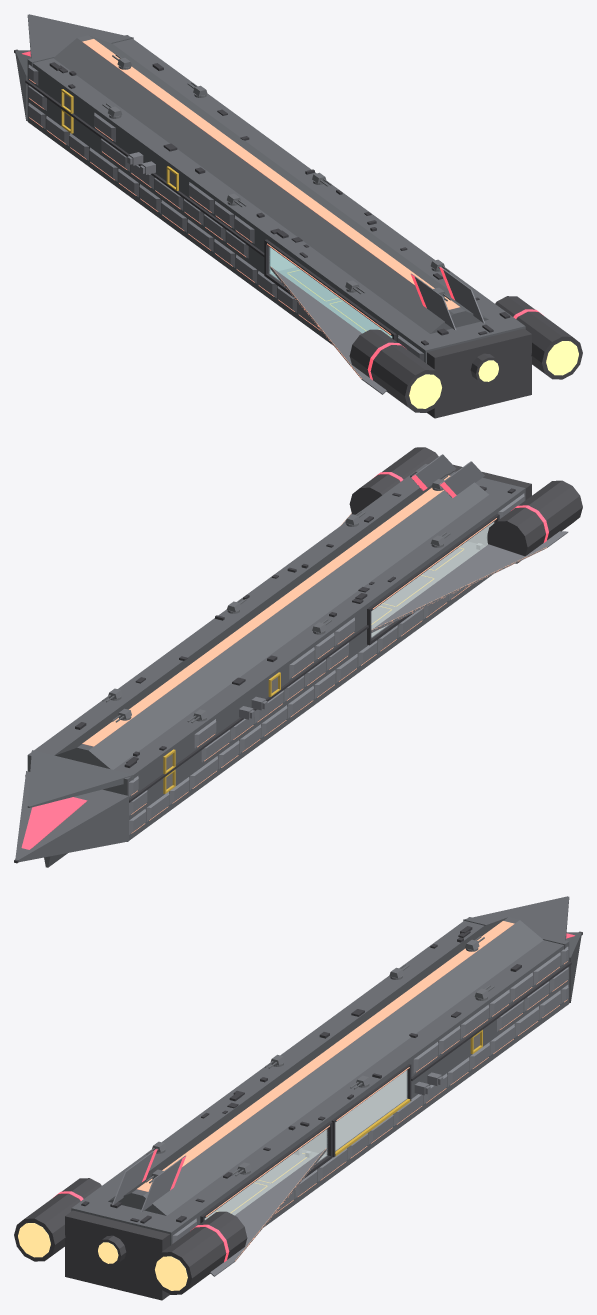
The model's file is ship_LARGE_v2.glb.
3 renders of one model, top to bottom at view 1: azimuth 30°, elevation 25°; view 2: azimuth 150°, elevation 25°; view 3: azimuth 330°, elevation 25°, orthographic.
Visible parts, largest first — view 1: LARGE_Hull-col, LARGE_Engines, LARGE_Armor, LARGE_Lights, LARGE_EngineGlow, LARGE_Trim, LARGE_HangarShield_Port, LARGE_Decks-col, LARGE_Details, LARGE_Hazard, LARGE_Accent; view 2: LARGE_Hull-col, LARGE_Armor, LARGE_Engines, LARGE_Lights, LARGE_HangarShield_Port, LARGE_Trim, LARGE_Accent, LARGE_Decks-col, LARGE_Details, LARGE_Hazard; view 3: LARGE_Hull-col, LARGE_Engines, LARGE_Armor, LARGE_Lights, LARGE_Trim, LARGE_EngineGlow, LARGE_CargoBayShield, LARGE_CargoBayDoor-col, LARGE_HangarShield_Starboard, LARGE_Decks-col, LARGE_Details, LARGE_Hazard (+1 smaller).
Boxes of the visible parts, left/top/right/bottom form: LARGE_Hull-col: left=15, top=14, right=525, bottom=412; LARGE_Engines: left=14, top=49, right=582, bottom=418; LARGE_Armor: left=28, top=64, right=484, bottom=394; LARGE_Lights: left=29, top=39, right=459, bottom=378; LARGE_EngineGlow: left=409, top=341, right=578, bottom=408; LARGE_Trim: left=25, top=80, right=396, bottom=341; LARGE_HangarShield_Port: left=269, top=247, right=392, bottom=337; LARGE_Decks-col: left=271, top=267, right=392, bottom=337; LARGE_Details: left=49, top=62, right=510, bottom=345; LARGE_Hazard: left=61, top=89, right=389, bottom=335; LARGE_Accent: left=22, top=51, right=543, bottom=380; LARGE_Hull-col: left=15, top=464, right=525, bottom=867; LARGE_Armor: left=129, top=454, right=568, bottom=834; LARGE_Engines: left=14, top=447, right=582, bottom=863; LARGE_Lights: left=82, top=475, right=546, bottom=833; LARGE_HangarShield_Port: left=371, top=522, right=493, bottom=636; LARGE_Trim: left=25, top=514, right=499, bottom=802; LARGE_Accent: left=21, top=472, right=548, bottom=849; LARGE_Decks-col: left=371, top=541, right=485, bottom=635; LARGE_Details: left=75, top=471, right=515, bottom=767; LARGE_Hazard: left=163, top=547, right=463, bottom=793; LARGE_Hull-col: left=71, top=896, right=581, bottom=1294; LARGE_Engines: left=14, top=931, right=582, bottom=1300; LARGE_Armor: left=112, top=946, right=568, bottom=1276; LARGE_Lights: left=137, top=921, right=567, bottom=1261; LARGE_Trim: left=200, top=962, right=571, bottom=1223; LARGE_EngineGlow: left=18, top=1223, right=187, bottom=1290; LARGE_CargoBayShield: left=335, top=1070, right=407, bottom=1150; LARGE_CargoBayDoor-col: left=335, top=1071, right=406, bottom=1149; LARGE_HangarShield_Starboard: left=204, top=1129, right=327, bottom=1219; LARGE_Decks-col: left=204, top=1149, right=325, bottom=1219; LARGE_Details: left=81, top=926, right=521, bottom=1223; LARGE_Hazard: left=207, top=1029, right=482, bottom=1217.
Bounding box in the file's own units: 40.71 × 22.95 × 182.
